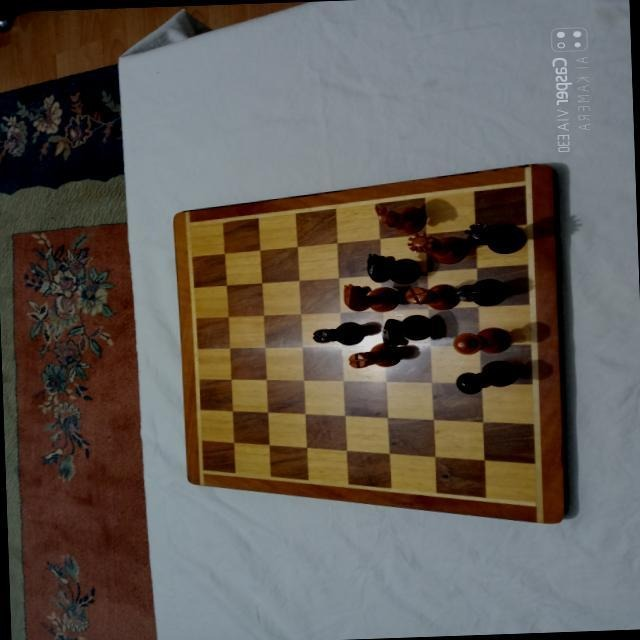black-king: (454, 358, 518, 393)
black-knight: (380, 312, 432, 348), (365, 251, 419, 285)
black-queen: (462, 218, 525, 254)
black-rook: (454, 276, 507, 307), (311, 319, 365, 345)
white-king: (450, 326, 509, 354)
white-knight: (374, 198, 426, 233), (342, 280, 398, 312)
white-queen: (405, 229, 466, 265)
white-rook: (403, 282, 459, 310), (347, 340, 400, 368)
